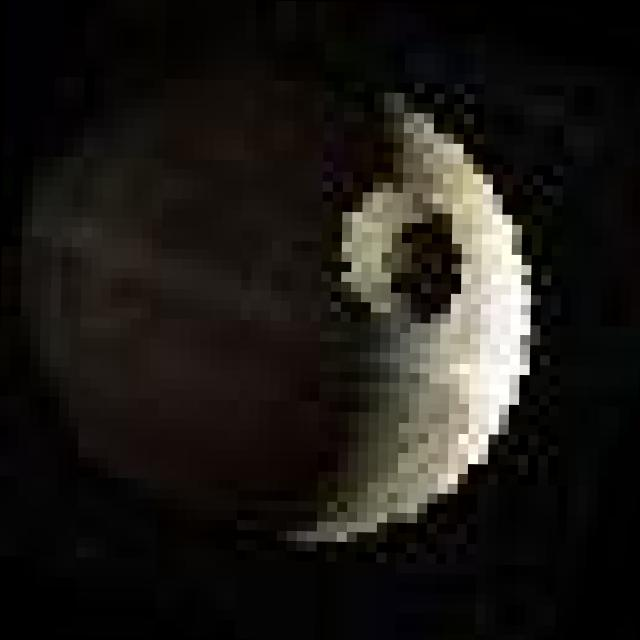Death Star: (21, 53, 564, 551)
